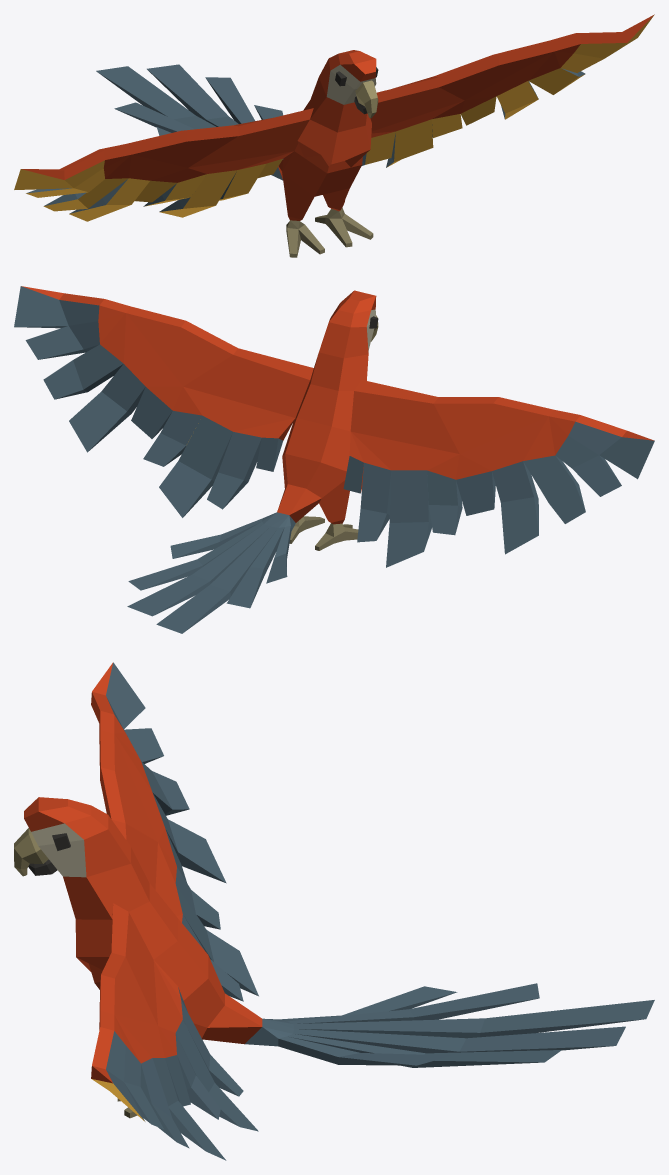
File: Parrot .fbx
3 renders of one model, top to bottom at view 1: azimuth 30°, elevation 25°; view 2: azimuth 150°, elevation 25°; view 3: azimuth 270°, elevation 25°, orthographic. The views are drawn at different scales.
Visible parts, largest first — view 1: Parrot; view 2: Parrot; view 3: Parrot.
Part boxes in pixels (box(x1,y1,x2,y2)): Parrot: box(14, 14, 654, 257); Parrot: box(14, 286, 654, 633); Parrot: box(14, 662, 654, 1160).
Size of the model in its own units: 145 by 46.07 by 92.93.
